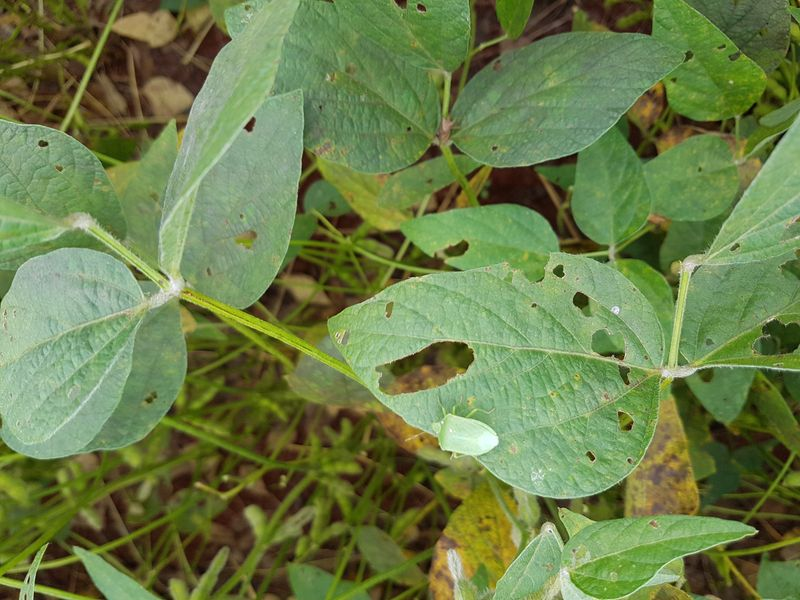Euschistus_heros_adulto: (429, 112, 462, 152)
Nezara_viridula_adulto: (419, 400, 505, 462)
